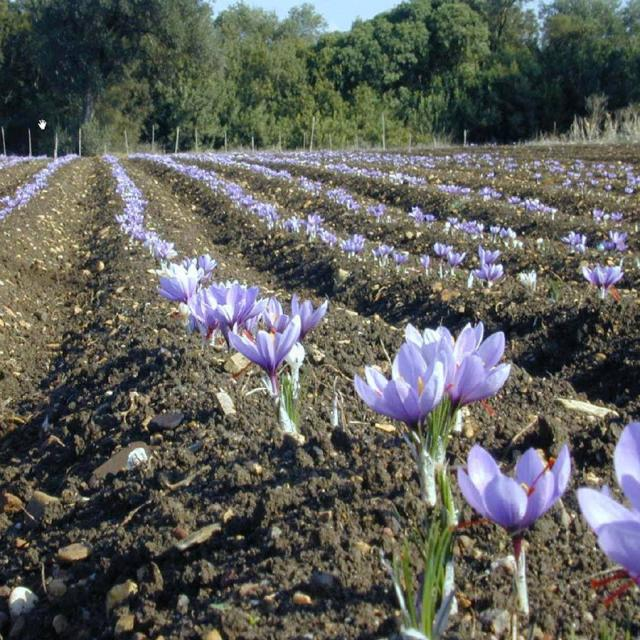saffron open: (458, 444, 571, 561), (355, 342, 445, 426), (230, 315, 301, 397), (291, 295, 329, 340)
